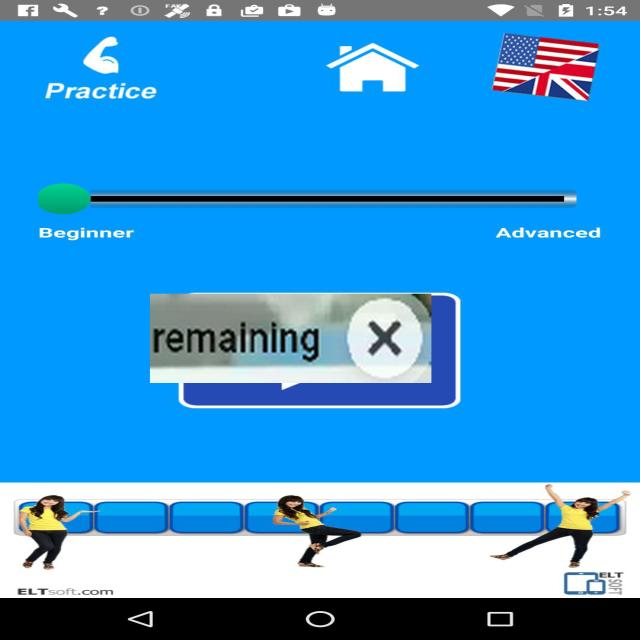misdirection: (150, 294, 431, 383)
